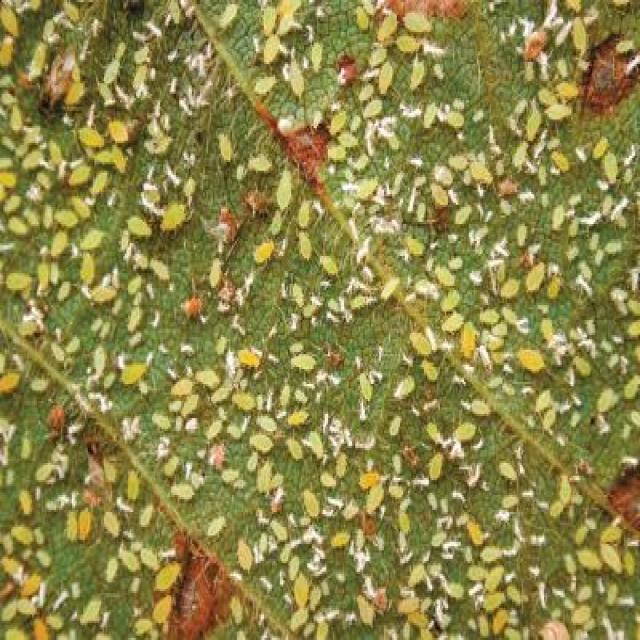Aphid-Grown-: (155, 198, 195, 247), (3, 262, 38, 300), (272, 169, 300, 214), (76, 249, 103, 294), (243, 237, 282, 267), (122, 211, 152, 247), (116, 358, 152, 387), (204, 247, 223, 292)
